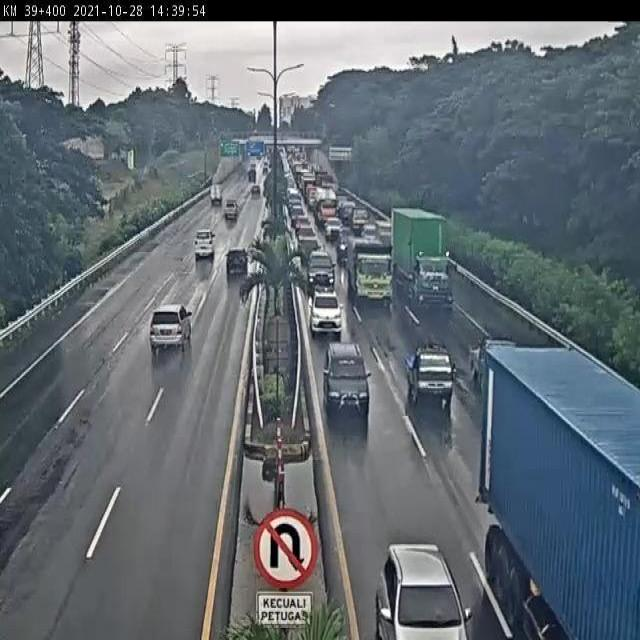big truck: (390, 203, 451, 308), (346, 243, 394, 304)
car: (405, 342, 458, 409), (322, 342, 371, 414), (470, 336, 519, 392), (148, 303, 192, 349), (307, 288, 344, 332), (307, 251, 336, 289), (193, 230, 215, 262), (224, 247, 249, 273), (298, 234, 319, 262), (223, 200, 238, 224)
